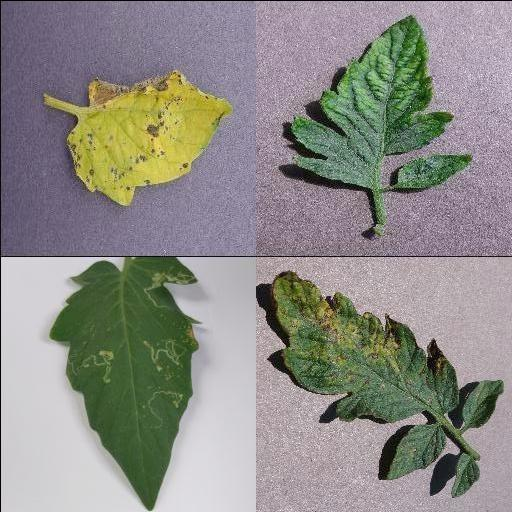Leaf Miner: (50, 256, 200, 511)
Mosaic Virus: (293, 11, 457, 191)
Septoria: (269, 270, 459, 422), (67, 73, 235, 206)
